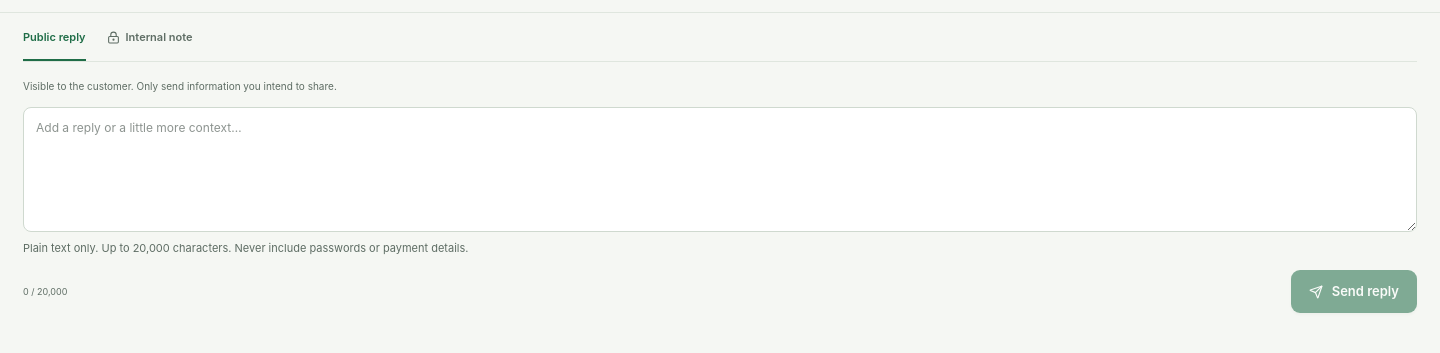
it: public and internal message boundaries › keeps independent drafts and submits the explicit selected visibility
Type "Synthetic public draft" into the text box named "Public reply" at [720, 169], box top-left (23, 107), bottom-right (1417, 232)
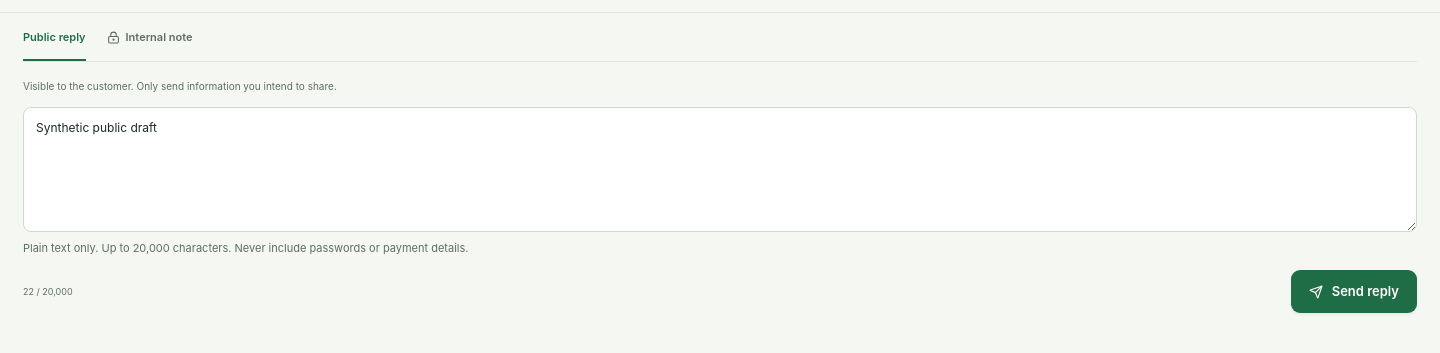
Click the tab "Internal note" at [150, 37], box top-left (107, 13), bottom-right (192, 61)
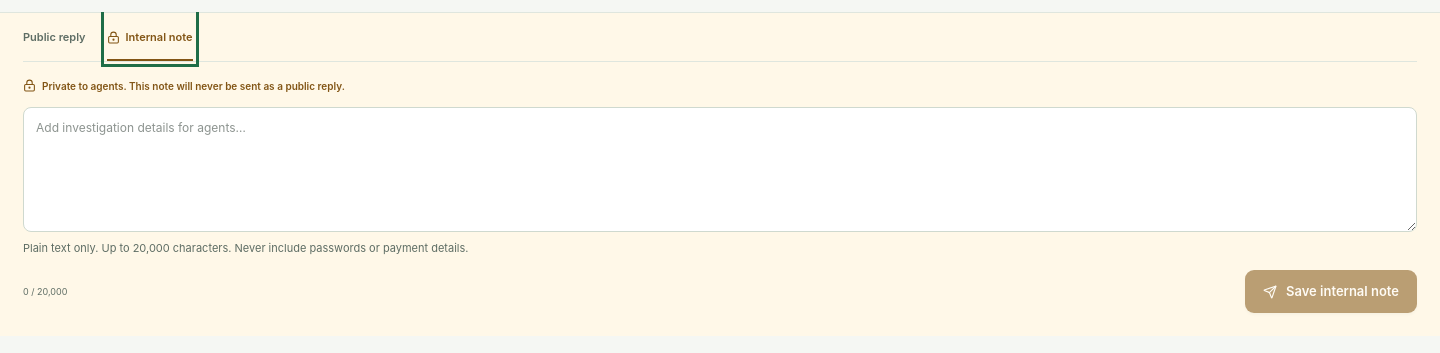
Type "Synthetic private investigation" into the text box named "Internal note" at [720, 169], box top-left (23, 107), bottom-right (1417, 232)
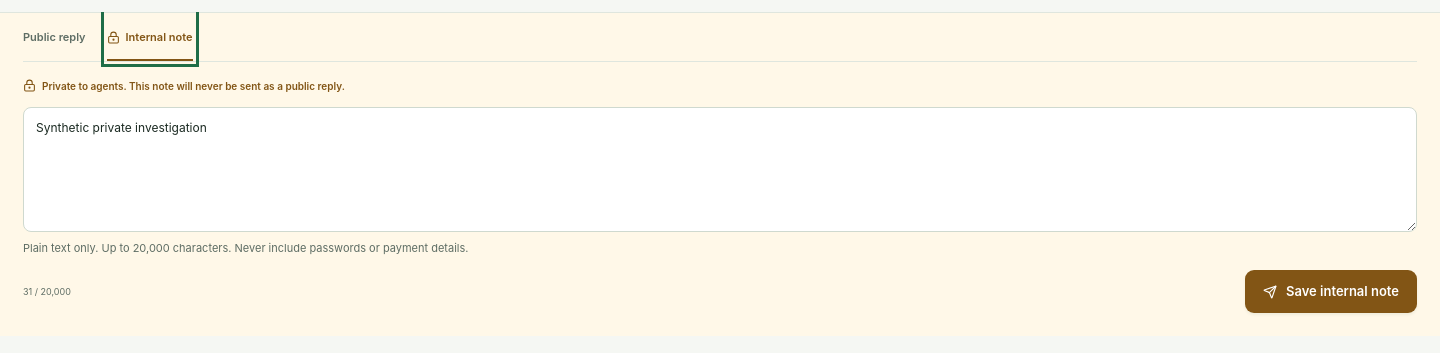
Click the button "Save internal note" at [1331, 292], box top-left (1245, 270), bottom-right (1417, 313)
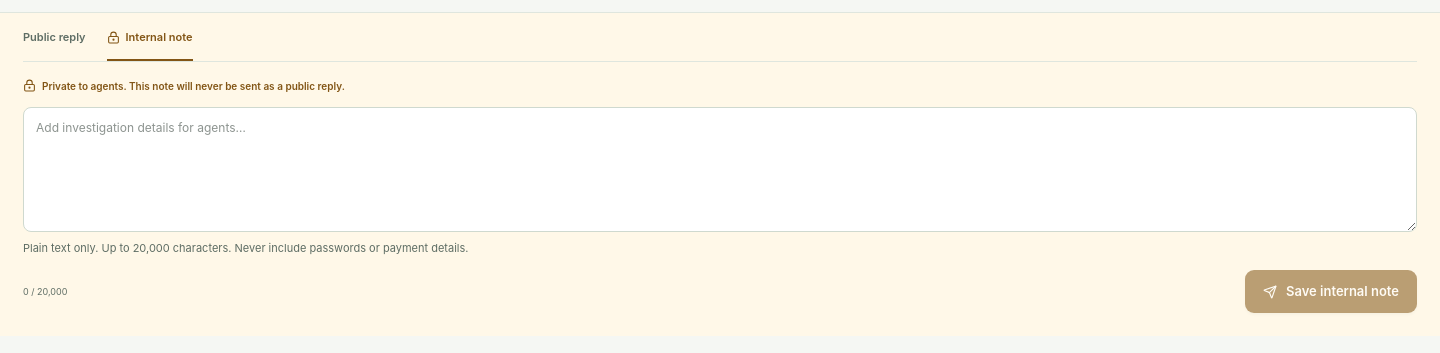
Expected: the tab "Internal note" has attribute data-state="active", top-left (107, 13), bottom-right (192, 61)
Click the tab "Public reply" at [54, 37], box top-left (23, 13), bottom-right (86, 61)
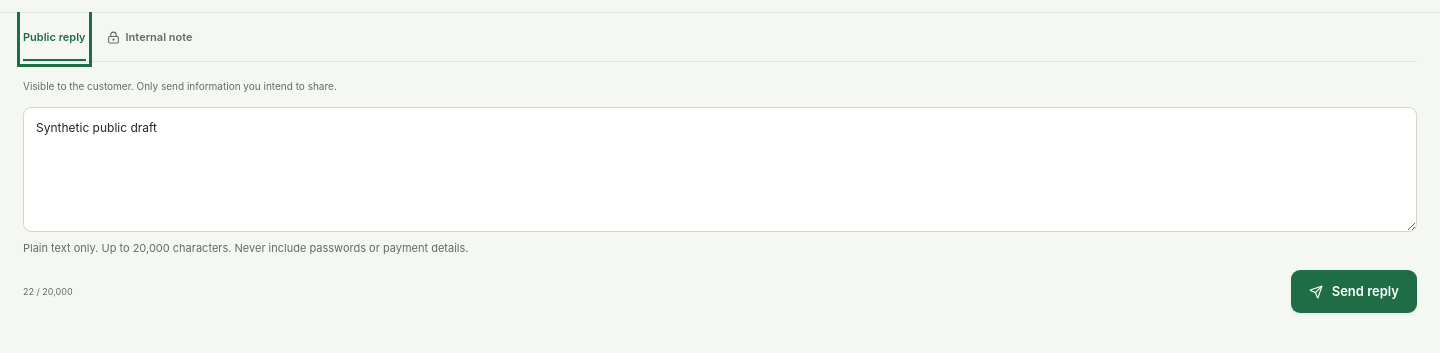
Expected: the text box named "Public reply" holds "Synthetic public draft", top-left (23, 107), bottom-right (1417, 232)
